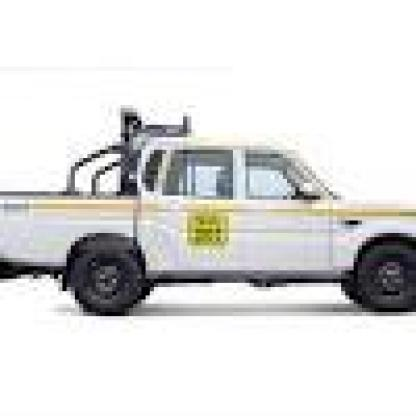light_vehicle: (0, 108, 412, 329)
